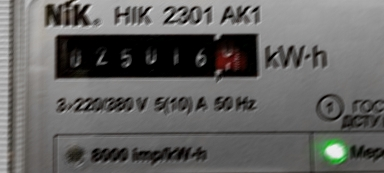0: (144, 42, 158, 65), (68, 46, 81, 68), (220, 37, 232, 57)
1: (169, 41, 180, 66), (222, 60, 230, 71)
2: (94, 43, 107, 66)
5: (119, 46, 130, 67)
6: (193, 44, 206, 69)
screen: (45, 24, 268, 86)
